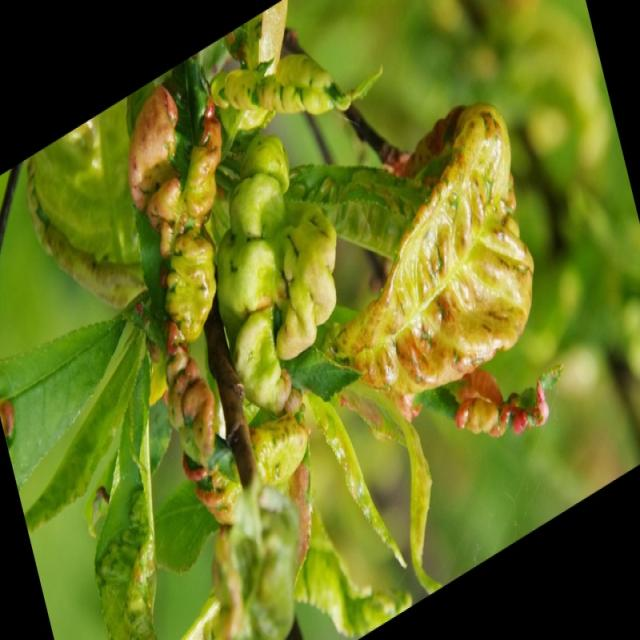peach_leaf_curl: (120, 95, 582, 538)
